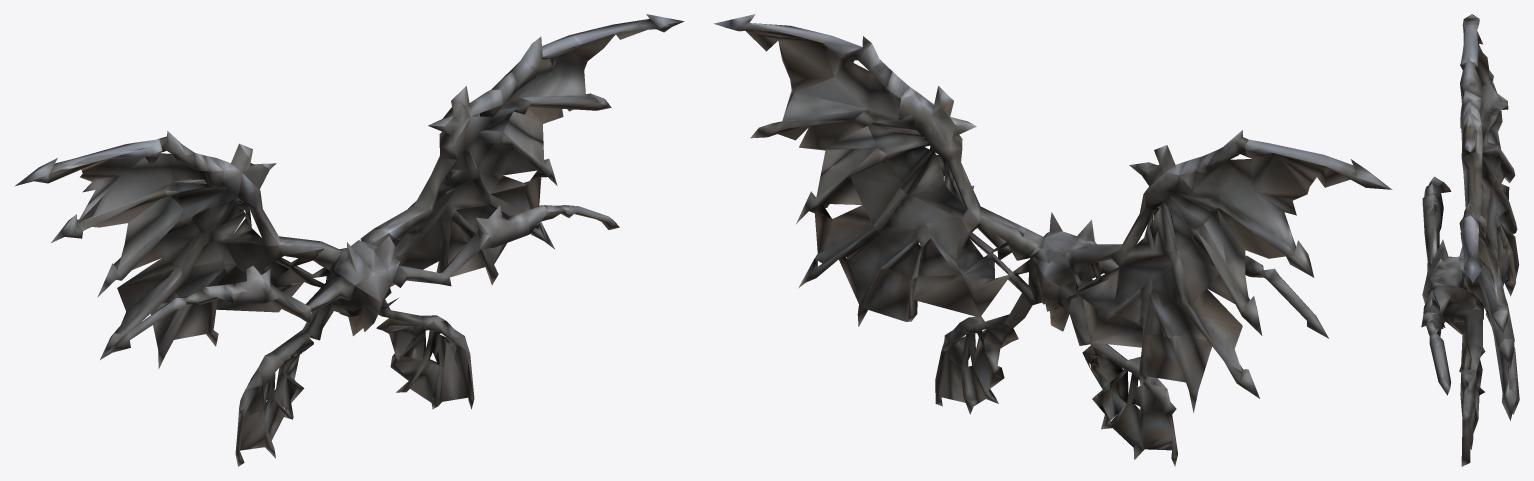
Rendered from 2067钢铁翅膀4.fbx.
The picture shows the model from 3 angles, left to right: view 1: azimuth 30°, elevation 25°; view 2: azimuth 150°, elevation 25°; view 3: azimuth 270°, elevation 25°; orthographic projection. The views are drawn at different scales.
Visible parts, largest first — view 1: geometry_0.004; view 2: geometry_0.004; view 3: geometry_0.004.
Boxes of the visible parts, x1,y1,x2,y2 form: geometry_0.004: [15, 14, 684, 466]; geometry_0.004: [714, 14, 1392, 466]; geometry_0.004: [1421, 14, 1519, 466].
Size of the model in its own units: 96.81 by 49.12 by 14.9.
